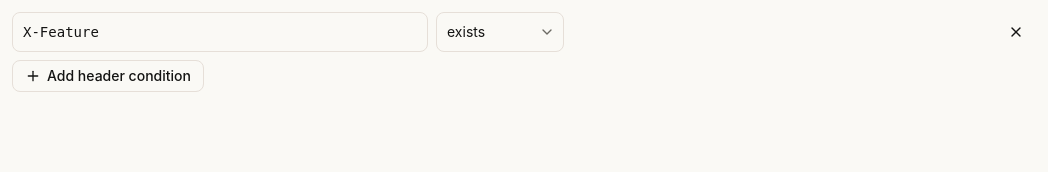
KeyValueEditor › hides the value for exists and adds/removes rows
Click the button "Add header condition".
click(108, 76)  # box [12, 60, 204, 92]
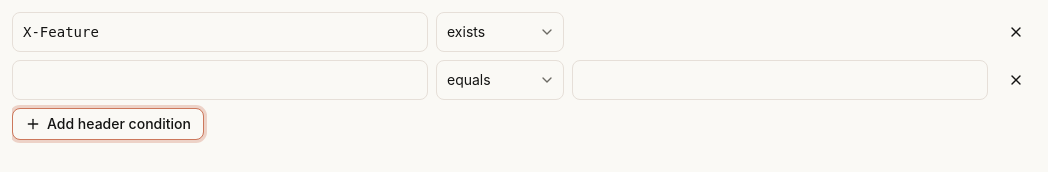
Check: the field named "Value 2" is shown, box [572, 60, 988, 100]
Click the button named "Remove header name 1".
click(1016, 32)  # box [996, 12, 1036, 52]
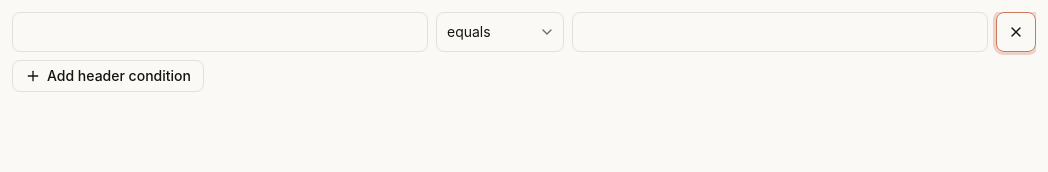
Check: the number of fields named "Header name" is 1, box [12, 12, 428, 52]
